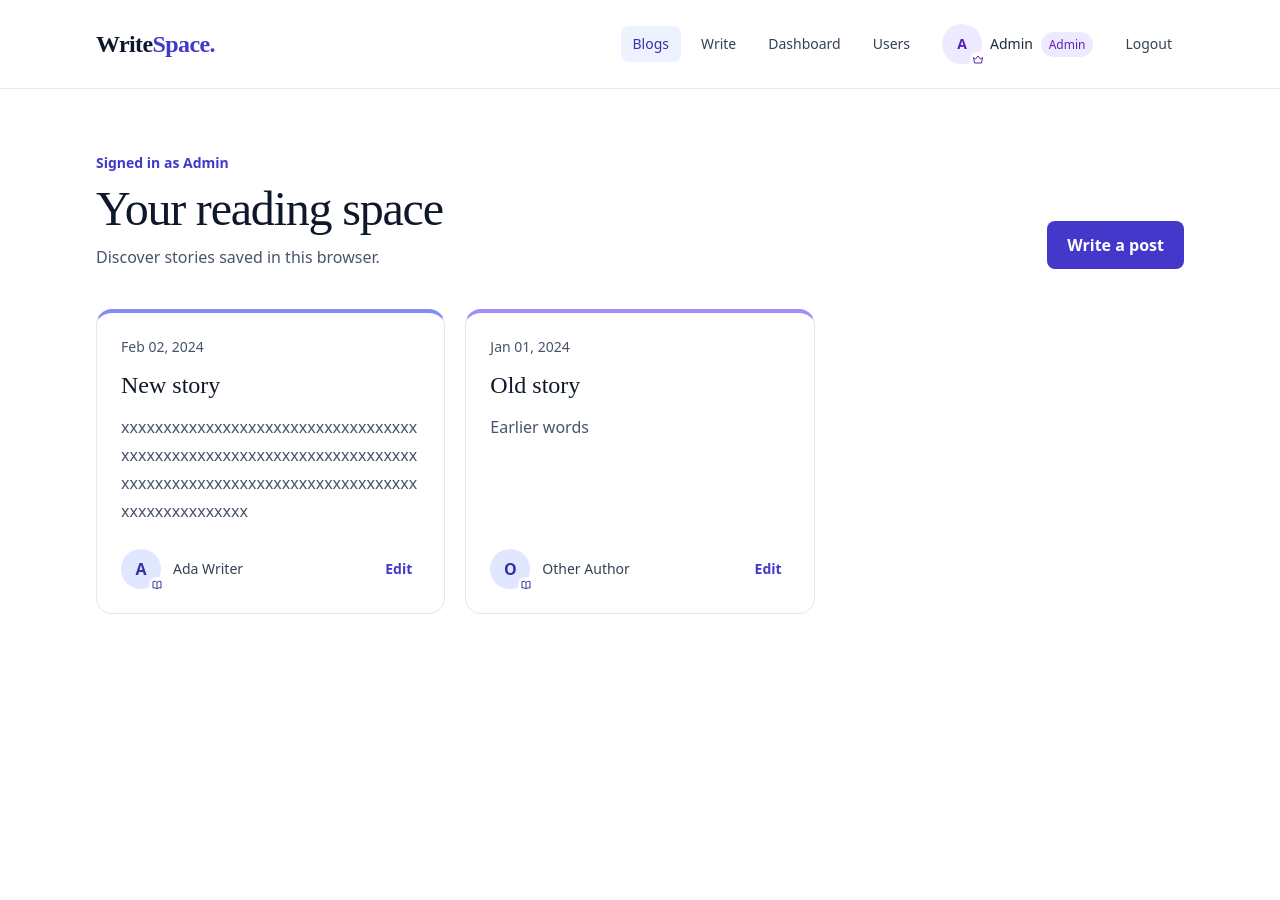
Test: reading and navigation › shows all edit links for admins and waits for edit activation
Expected: the link with aria-label "Edit New story" is shown, [385,559,412,578]
What coordinates should you click on to do the following:
click the link with aria-label "Edit Old story"
I would click on:
 (768, 568)
Its box is [755,559,782,578].
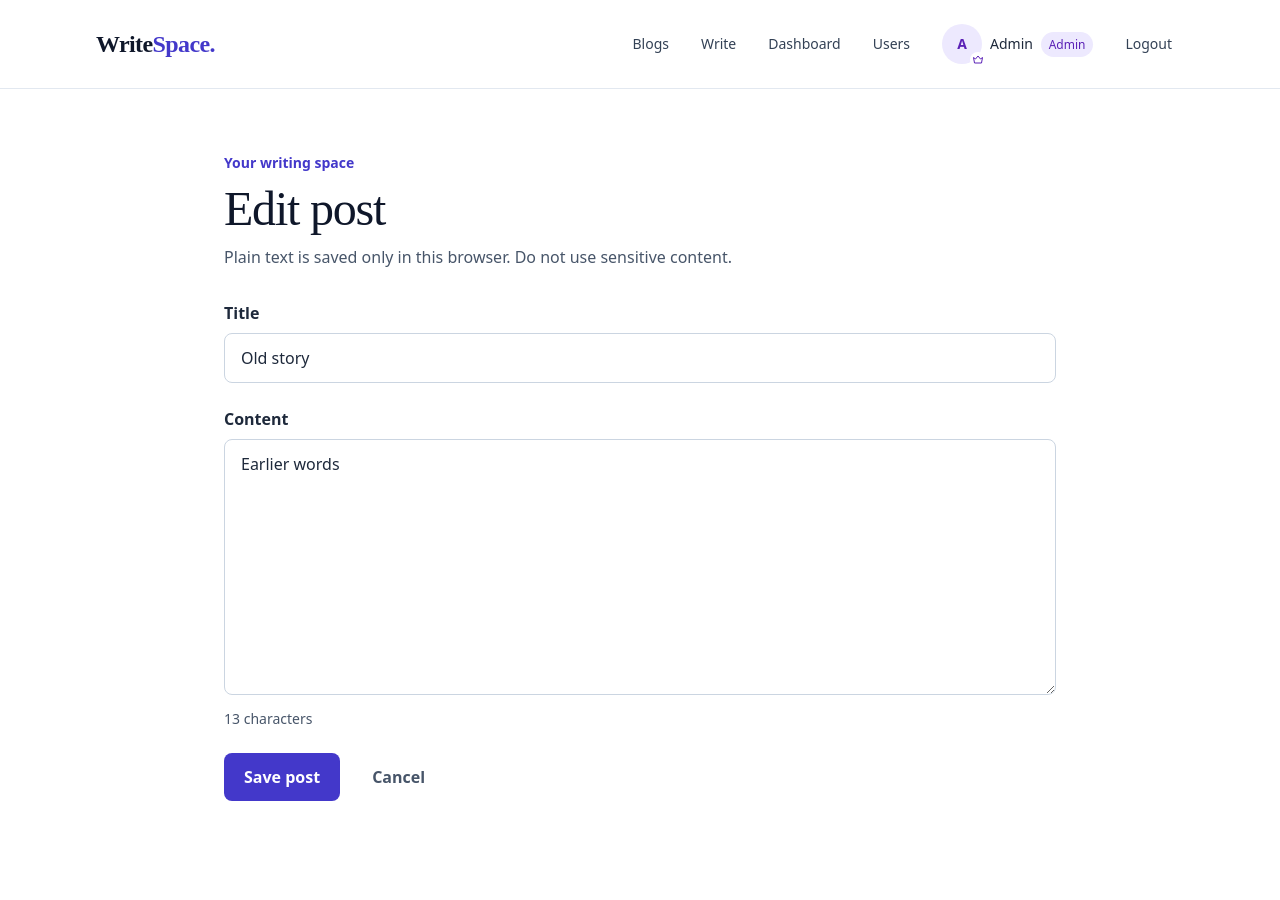
Now the heading "Edit post" is shown, box [224,182,385,235]
Now the field labelled "Title" holds "Old story", box [224,333,1056,383]
